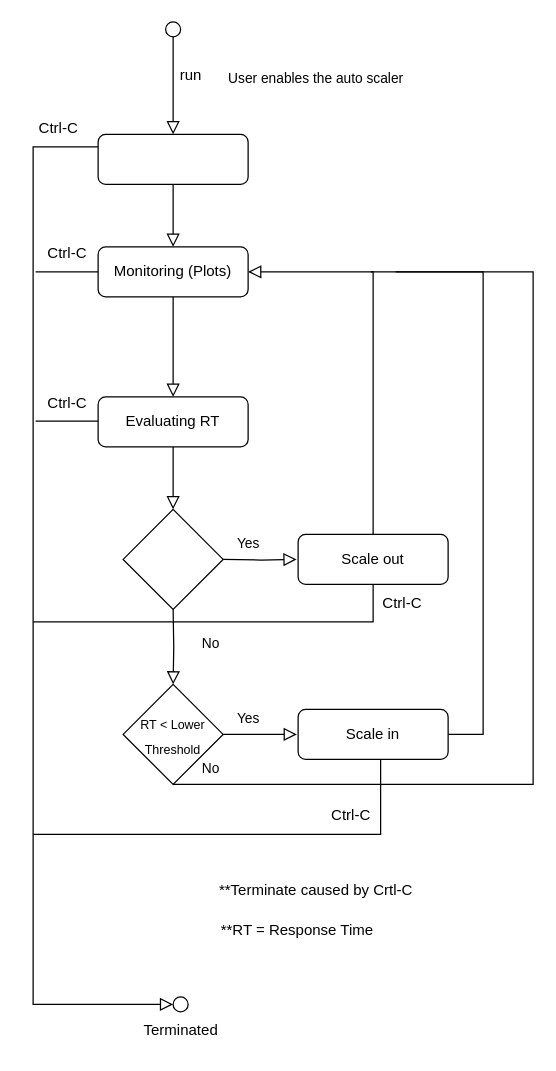
Some shapes in this 556 by 1071 pixel diagram are drawn without their labels. Each missing label, with the box of its shape:
Initialized: (97, 133, 248, 184)
RT > Upper Threshold: (122, 508, 223, 609)
